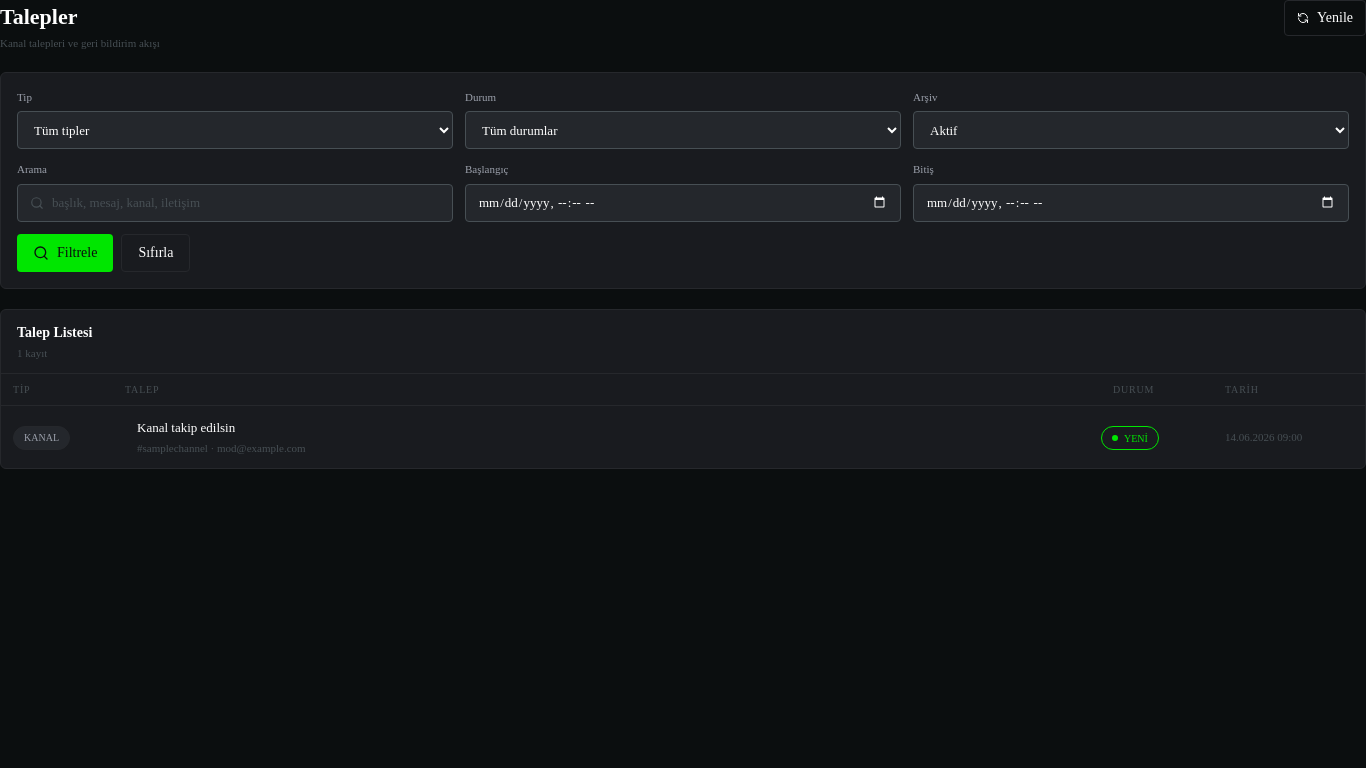
Test case: RequestAdmin › loads request detail and updates status
This screenshot has width=1366, height=768.
Click the button "Kanal takip edilsin".
click(42, 438)  # box x1=1 y1=406 x2=1365 y2=468
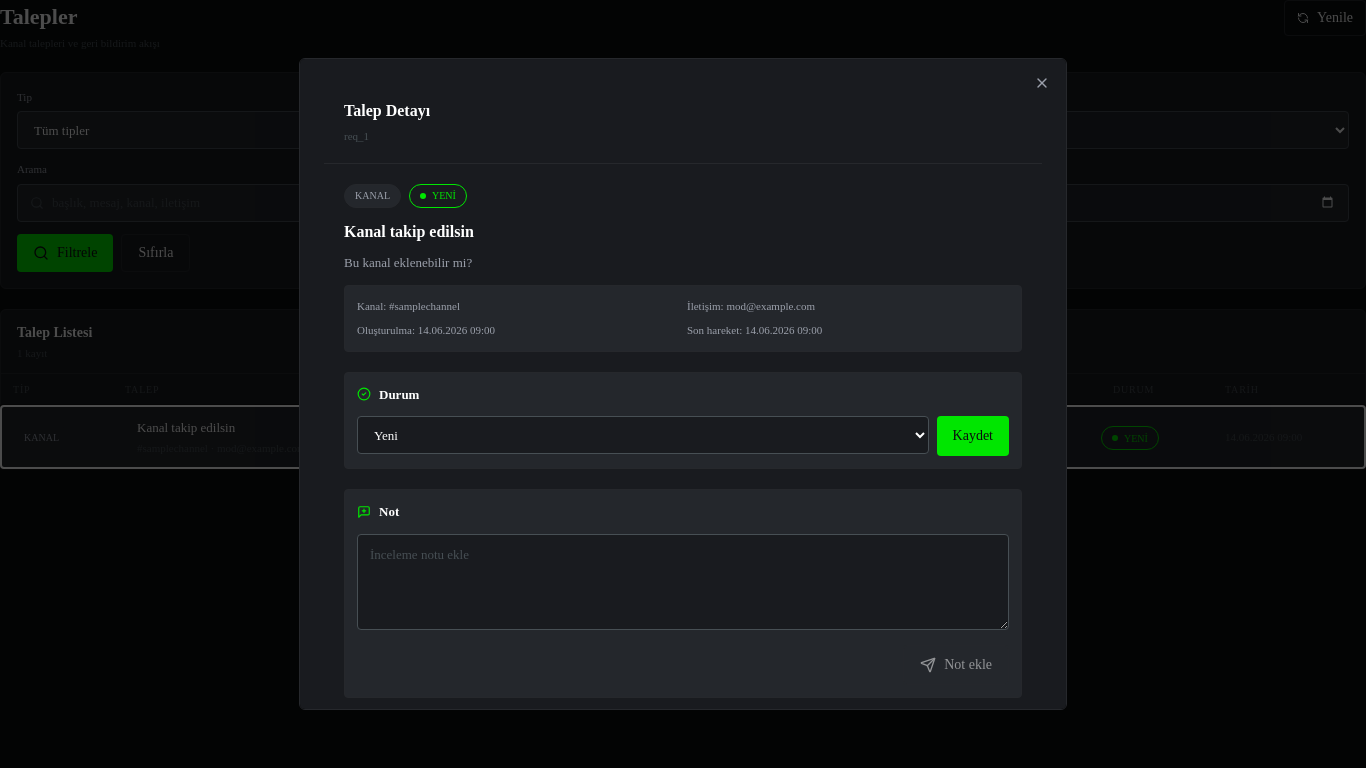
Expected: the text "Bu kanal eklenebilir mi?" is shown, x1=344 y1=255 x2=472 y2=270
Select "Onaylandı" in the dropdown showing "Yeni" at (643, 435), box x1=357 y1=416 x2=929 y2=454
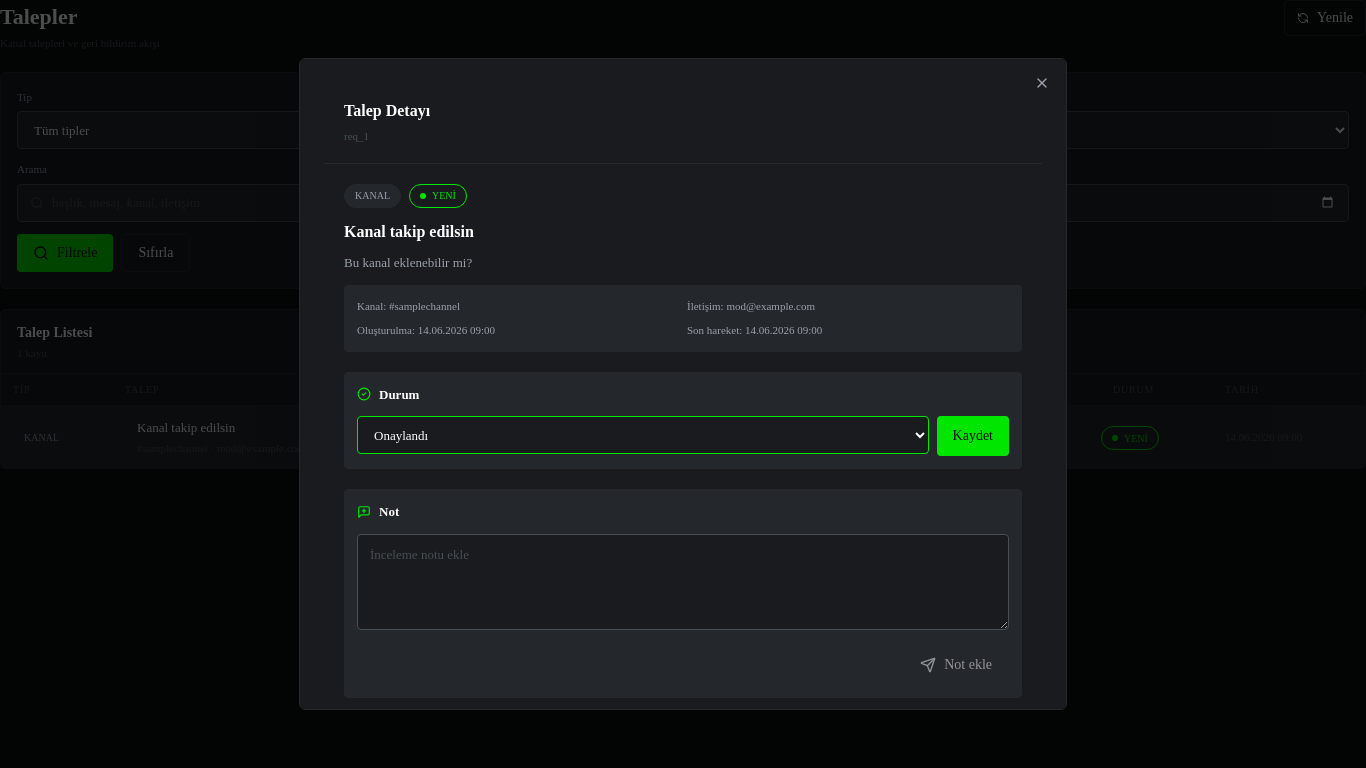
Click the button "Kaydet".
click(973, 436)  # box x1=937 y1=416 x2=1009 y2=456
(page scrolled)
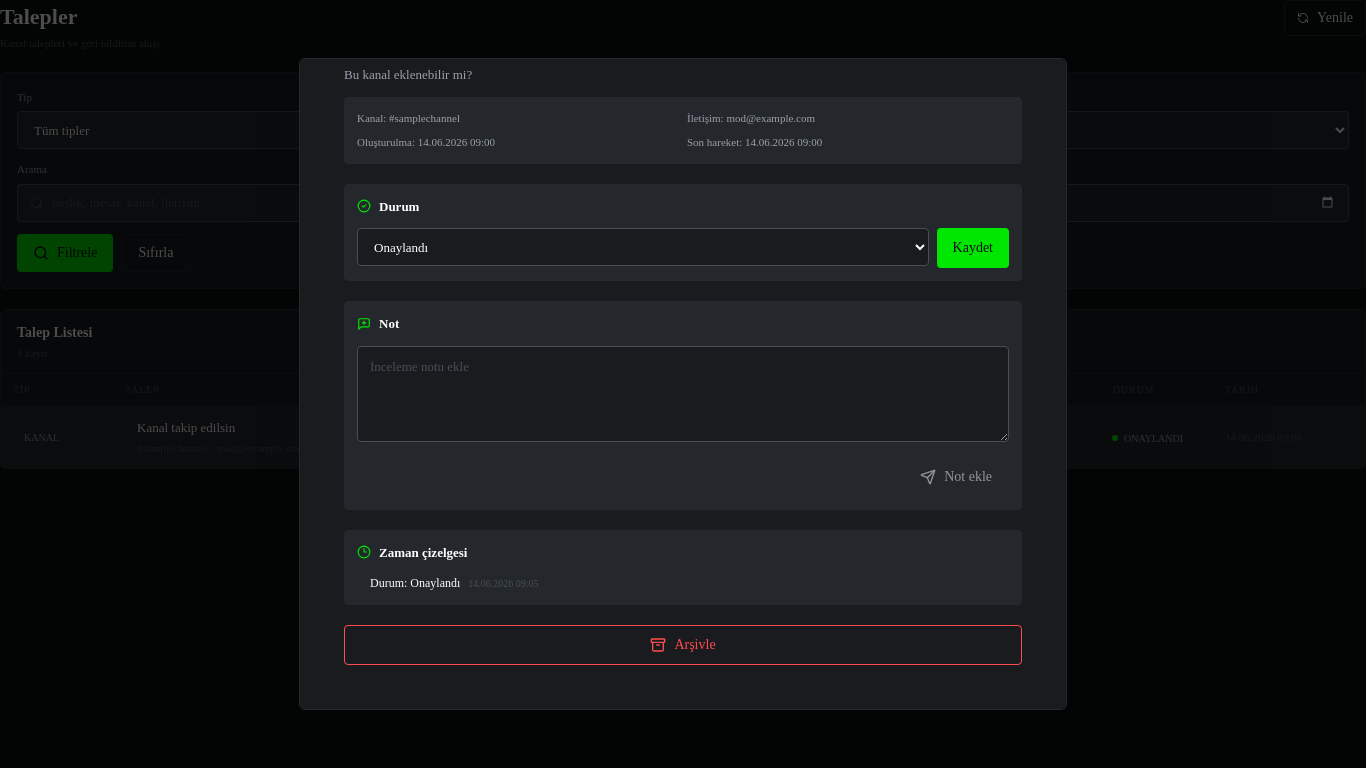
Expected: the text "Durum: Onaylandı" is shown, x1=370 y1=574 x2=460 y2=592
